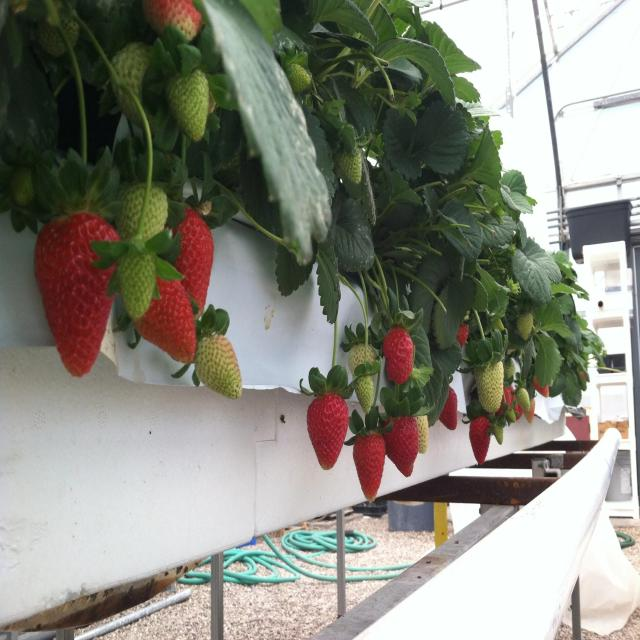immature_strawberry: (188, 328, 248, 404), (115, 165, 172, 244), (107, 236, 161, 318), (162, 67, 216, 147), (342, 332, 387, 411), (463, 342, 510, 412), (277, 49, 317, 100), (341, 143, 369, 190), (515, 303, 541, 347), (516, 384, 534, 414)
ripe_strawberry: (20, 198, 131, 382), (121, 244, 202, 374), (161, 188, 224, 316), (170, 222, 220, 320), (305, 382, 352, 477), (381, 409, 423, 478), (382, 318, 422, 389), (352, 424, 388, 501), (382, 322, 418, 385), (432, 380, 461, 434), (469, 413, 494, 466)
